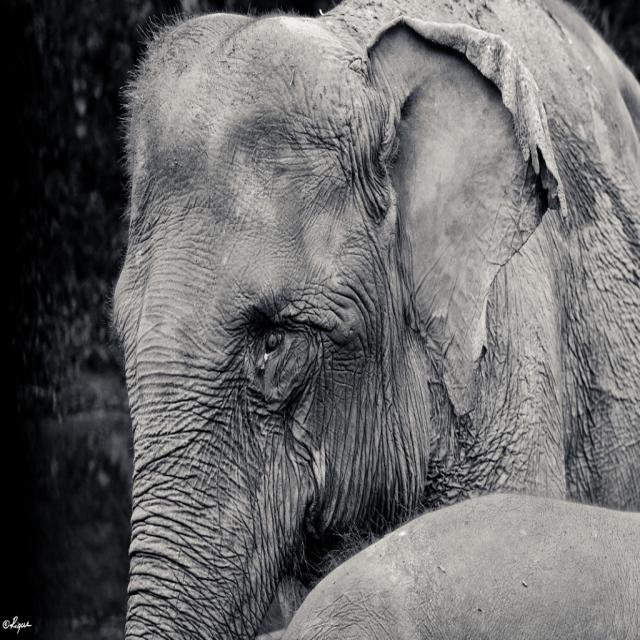Elephant: (94, 0, 622, 634)
